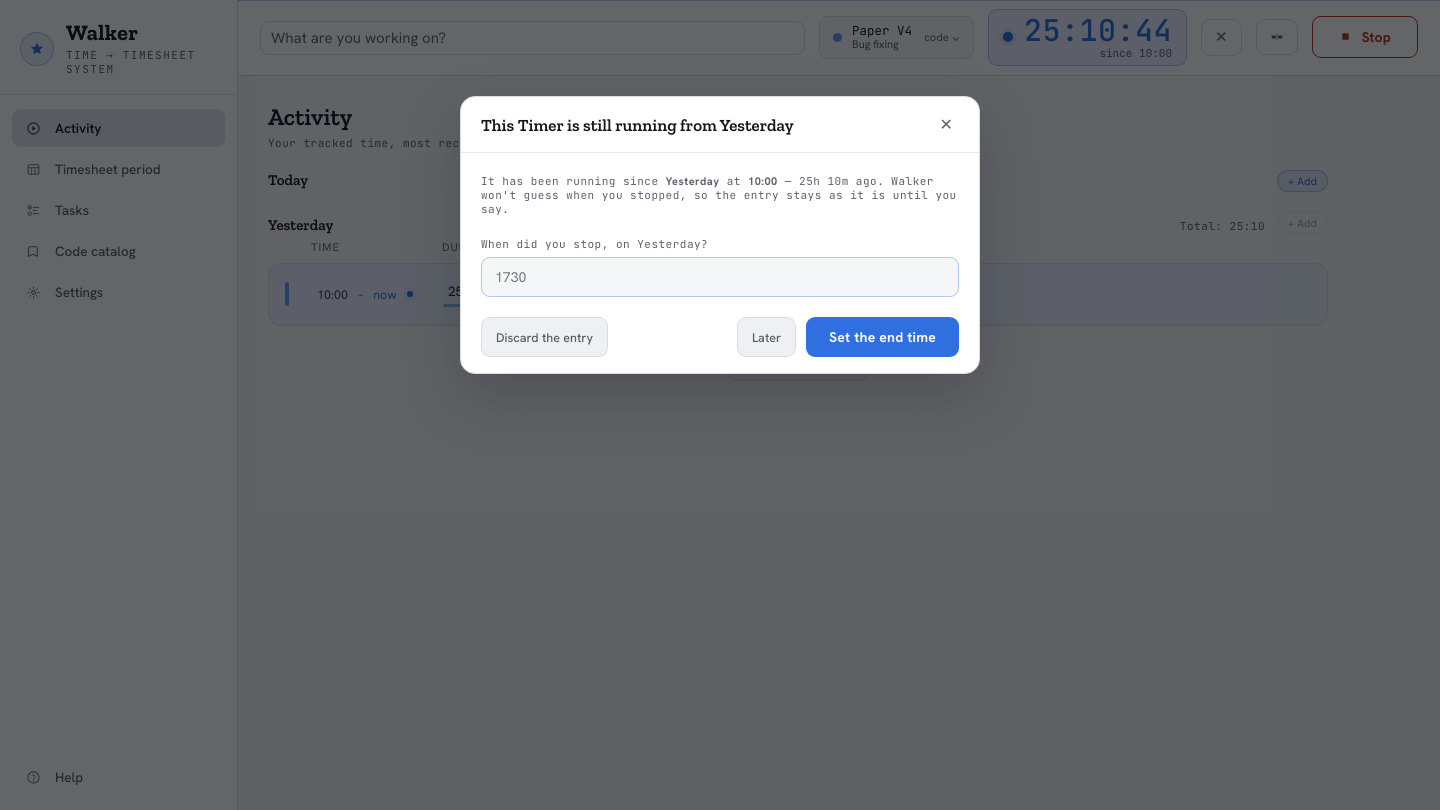
App — a Timer still running from an earlier day (BIZ-091) › can be postponed, and then stays out of the way
Click the button "Later". click: {"x": 766, "y": 337}
box: [737, 317, 796, 357]
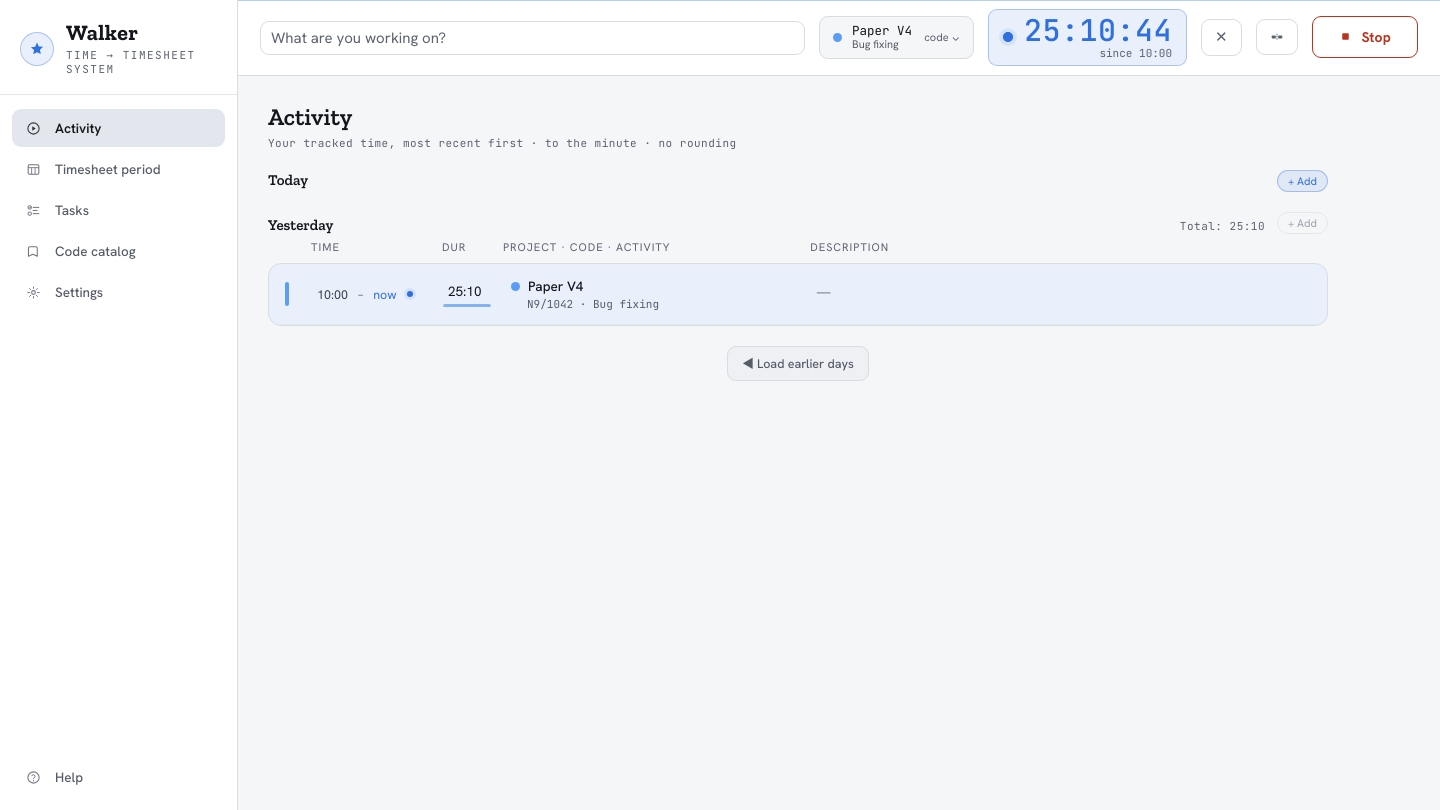
Check: the field with placeholder "1730" is gone
